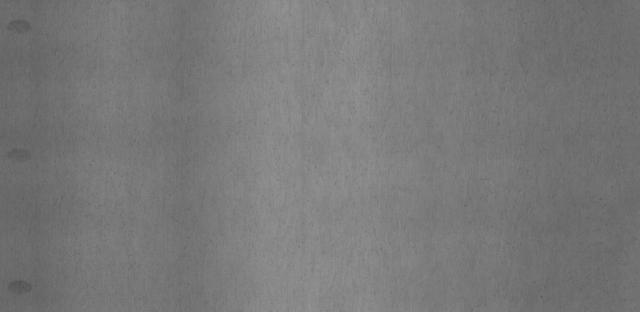oil_spot: (0, 278, 32, 300), (4, 148, 36, 166), (8, 15, 31, 35)
